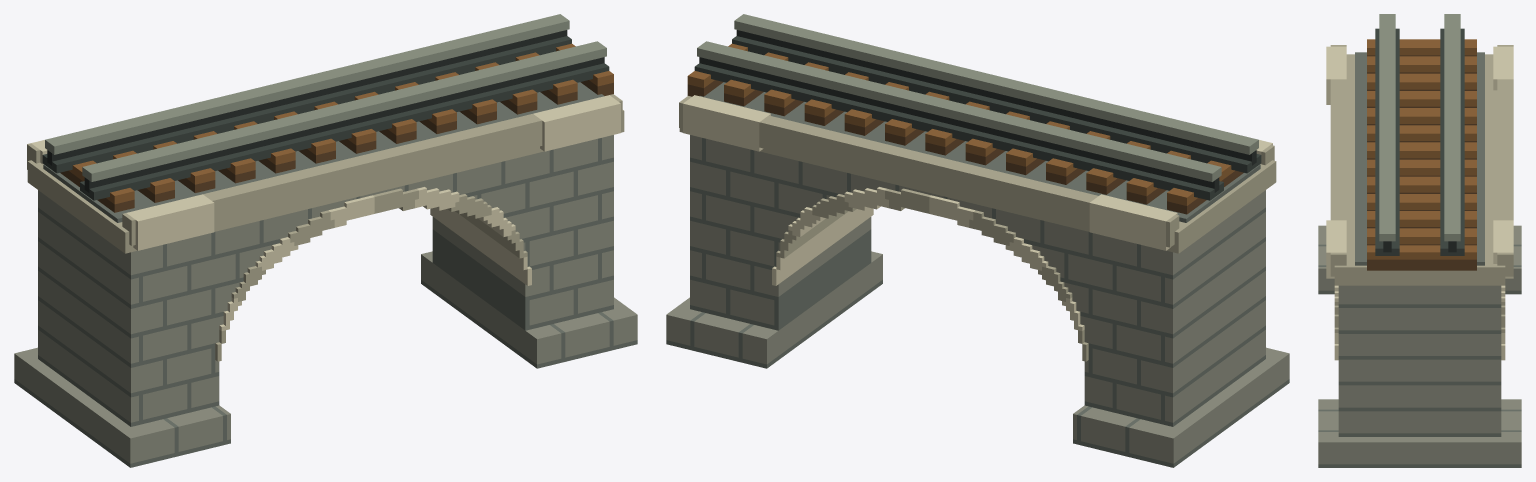
The model's file is railway_bridge.glb.
3 renders of one model, left to right at view 1: azimuth 30°, elevation 25°; view 2: azimuth 150°, elevation 25°; view 3: azimuth 270°, elevation 25°, orthographic. The views are drawn at different scales.
Parts seen in each view (by area): view 1: railway_bridge; view 2: railway_bridge; view 3: railway_bridge.
Part boxes in pixels (x1,y1,x2,y2): railway_bridge: (14,14,637,467); railway_bridge: (666,14,1289,467); railway_bridge: (1318,14,1521,467).
Bounding box in the file's own units: 12.8 × 6.4 × 5.
